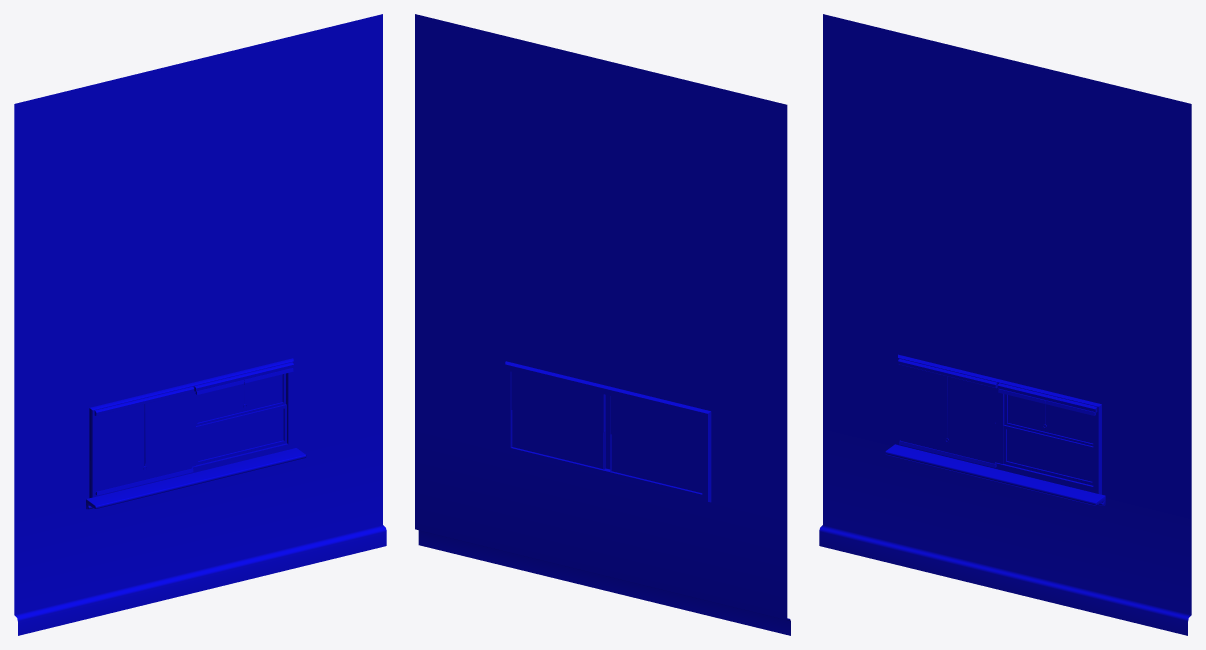
The model's file is SM_Window.fbx.
3 views of the same model, side by side, from view 1: azimuth 30°, elevation 25°; view 2: azimuth 150°, elevation 25°; view 3: azimuth 330°, elevation 25° (orthographic).
Parts seen in each view (by area): view 1: SM_Window; view 2: SM_Window; view 3: SM_Window.
Boxes of the visible parts, x1,y1,x2,y2 form: SM_Window: [14, 14, 386, 635]; SM_Window: [415, 14, 790, 635]; SM_Window: [819, 14, 1191, 635].
Size of the model in its own units: 450 by 618 by 24.18.
